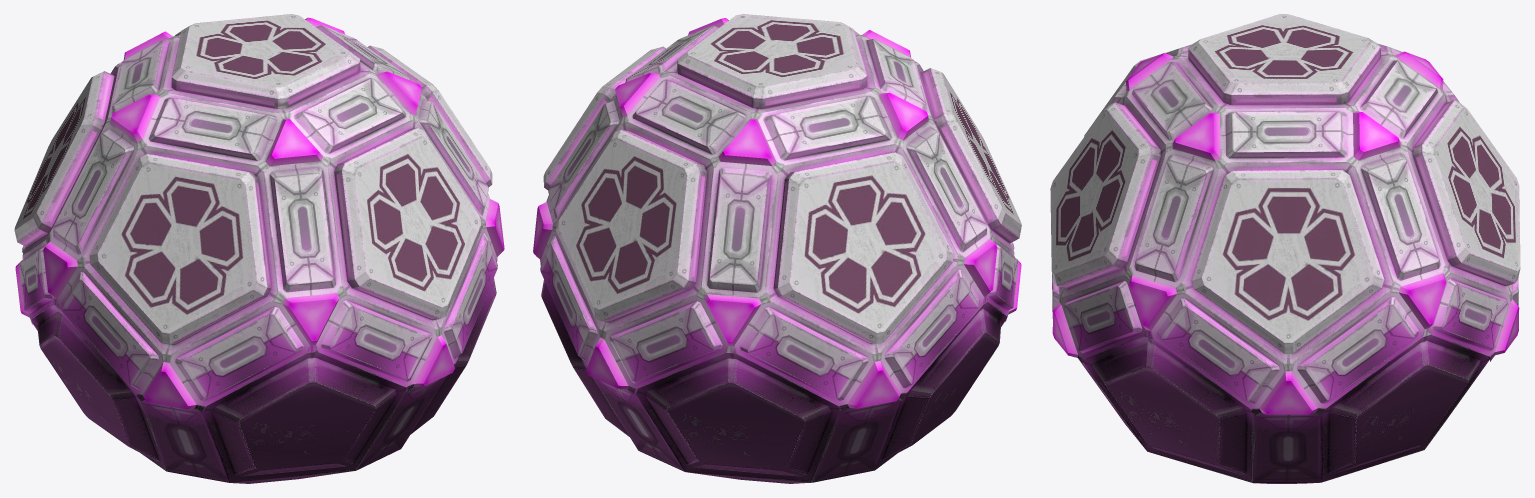
Rendered from crate_Transcendent_v1_diffusenormal.glb.
3 views of the same model, side by side, from view 1: azimuth 30°, elevation 25°; view 2: azimuth 150°, elevation 25°; view 3: azimuth 270°, elevation 25° (orthographic).
Visible parts, largest first — view 1: crateTranscendent_v1; view 2: crateTranscendent_v1; view 3: crateTranscendent_v1.
Boxes of the visible parts, <box> form: crateTranscendent_v1: <box>14,14,504,483</box>; crateTranscendent_v1: <box>533,14,1021,483</box>; crateTranscendent_v1: <box>1050,14,1520,483</box>.
Size of the model in its own units: 1.12 by 1.02 by 1.08.
Materials: 1 (1 with a texture image).
